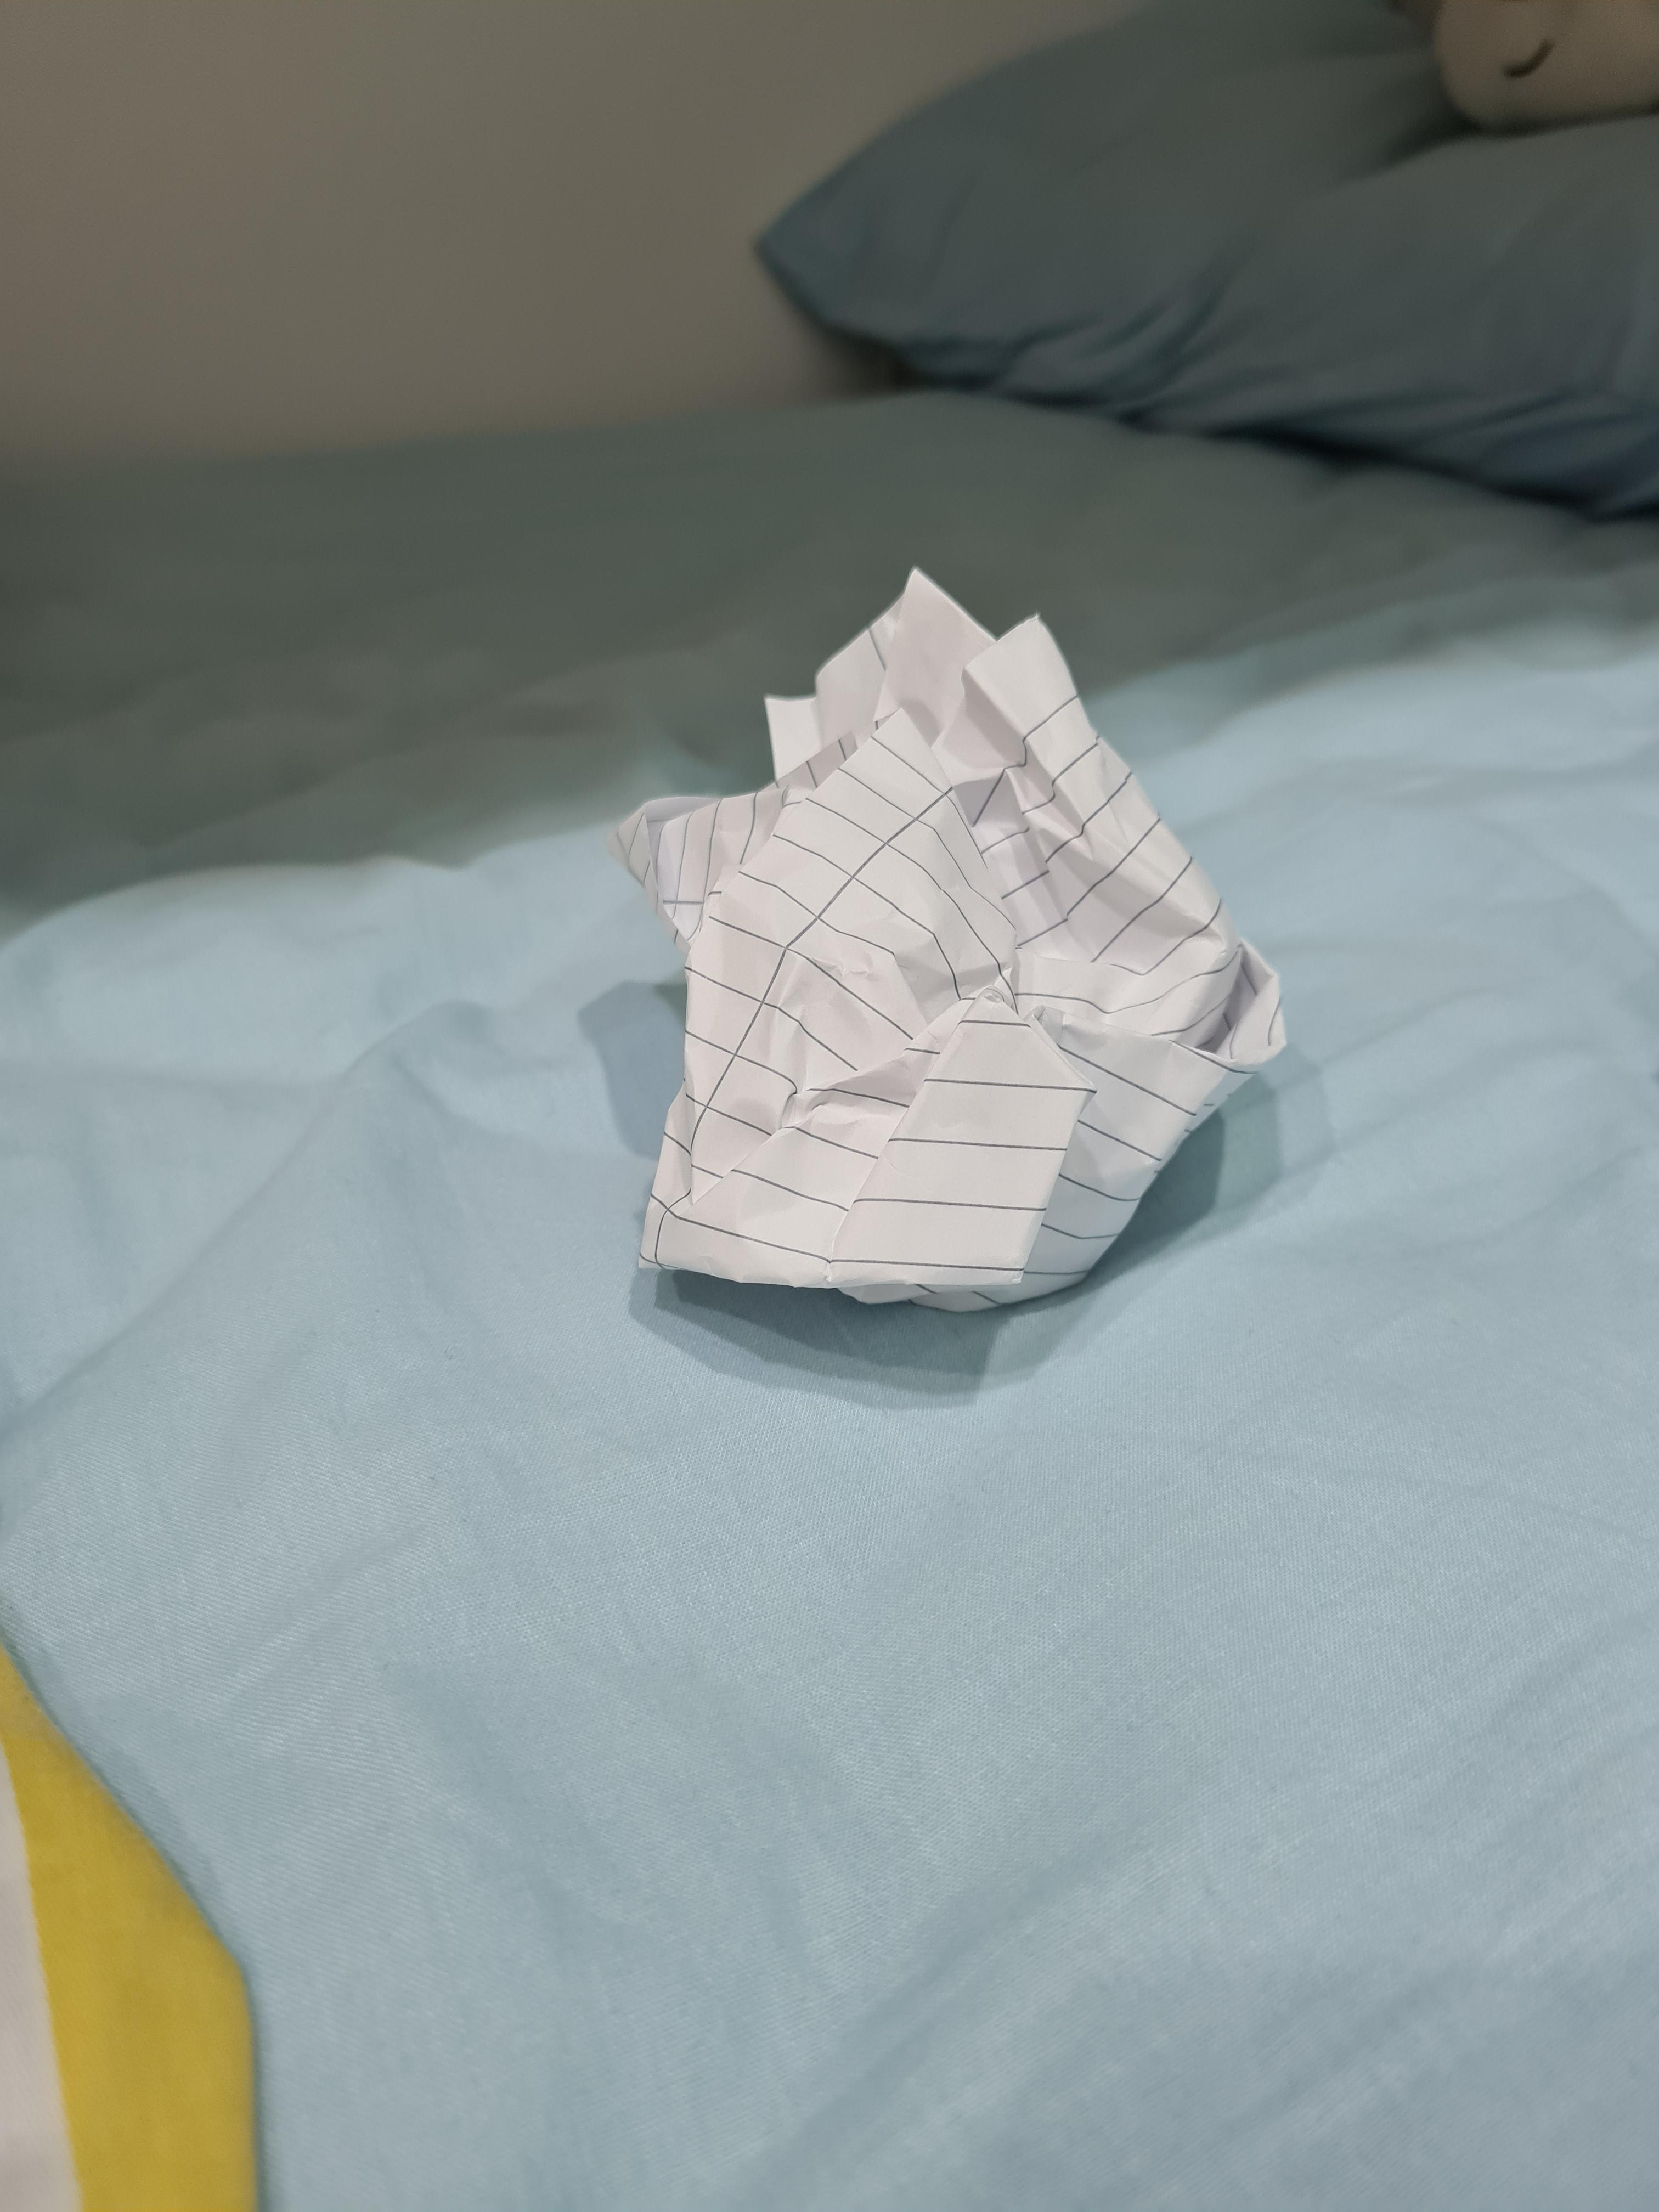Paper: (606, 594, 1268, 1313)
